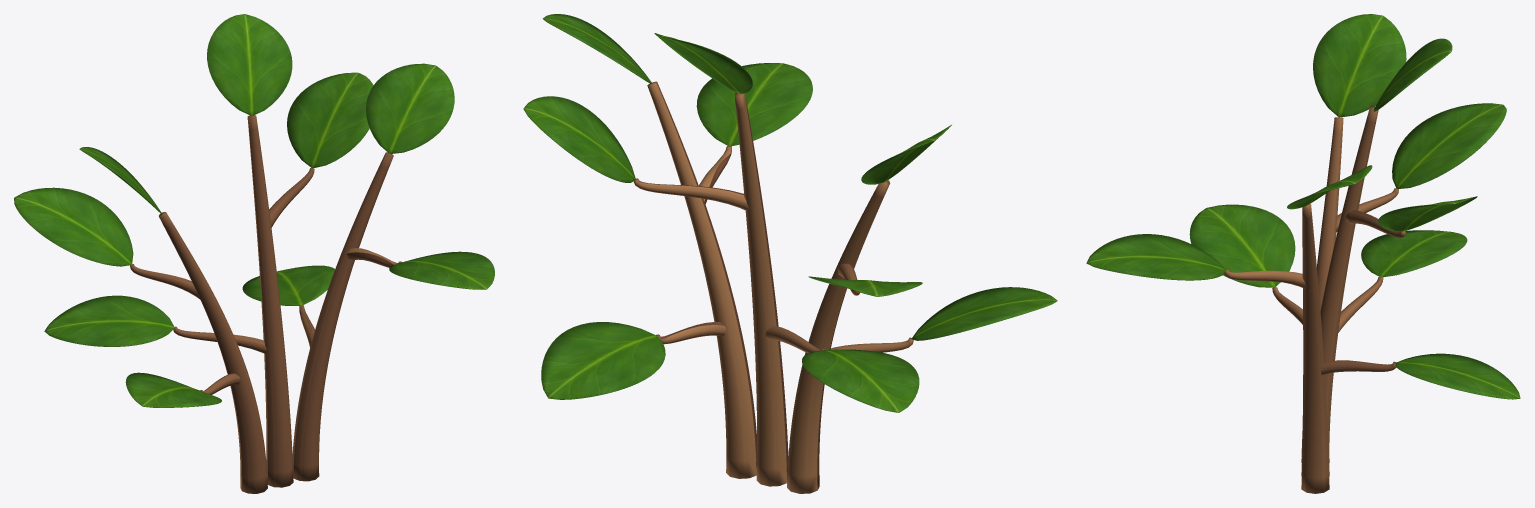
File: NP_Blueberry_Young.fbx
3 views of the same model, side by side, from view 1: azimuth 30°, elevation 25°; view 2: azimuth 150°, elevation 25°; view 3: azimuth 270°, elevation 25° (orthographic). The views are drawn at different scales.
Visible parts, largest first — view 1: NP_Blueberry_Young; view 2: NP_Blueberry_Young; view 3: NP_Blueberry_Young.
Part boxes in pixels (box(x1,y1,x2,y2)): NP_Blueberry_Young: box(14, 14, 494, 493); NP_Blueberry_Young: box(523, 14, 1057, 493); NP_Blueberry_Young: box(1086, 14, 1520, 493).
Size of the model in its own units: 47.28 by 51 by 45.69.
